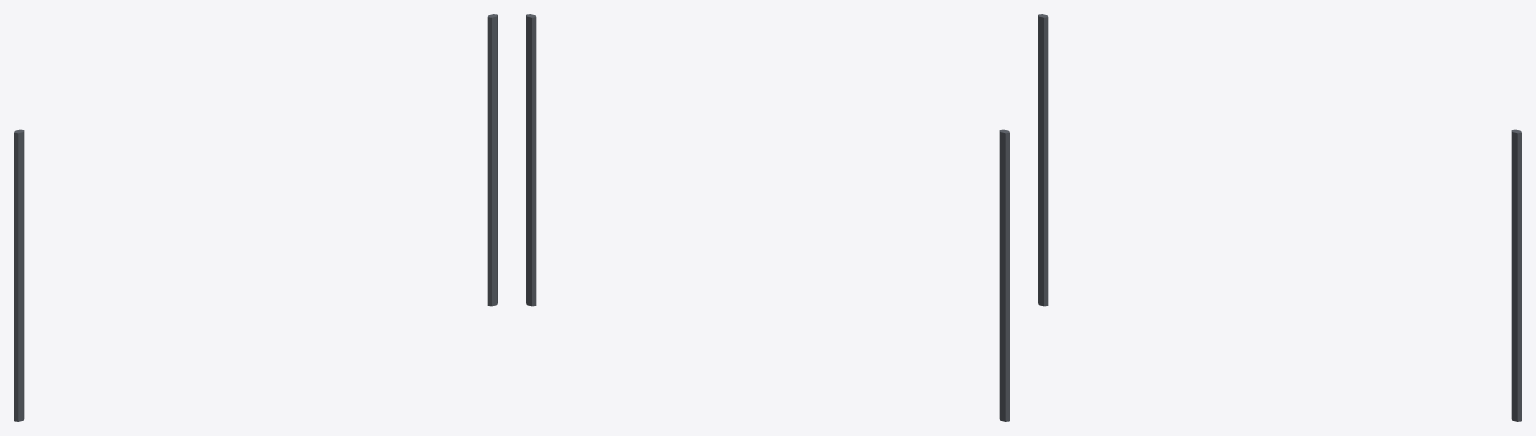
File: SM_Prop_Fence_Gate_01.fbx
The picture shows the model from 3 angles, left to right: view 1: azimuth 30°, elevation 25°; view 2: azimuth 150°, elevation 25°; view 3: azimuth 330°, elevation 25°; orthographic projection.
Parts seen in each view (by area): view 1: SM_Prop_Fence_Gate_01; view 2: SM_Prop_Fence_Gate_01; view 3: SM_Prop_Fence_Gate_01.
Boxes of the visible parts, <box> form: SM_Prop_Fence_Gate_01: <box>14,14,497,421</box>; SM_Prop_Fence_Gate_01: <box>526,14,1009,421</box>; SM_Prop_Fence_Gate_01: <box>1038,14,1521,421</box>.
Bounding box in the file's own units: 603 × 344 × 7.44.
